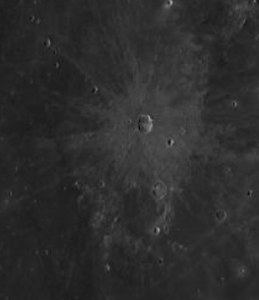crater: (95, 58, 200, 175)
